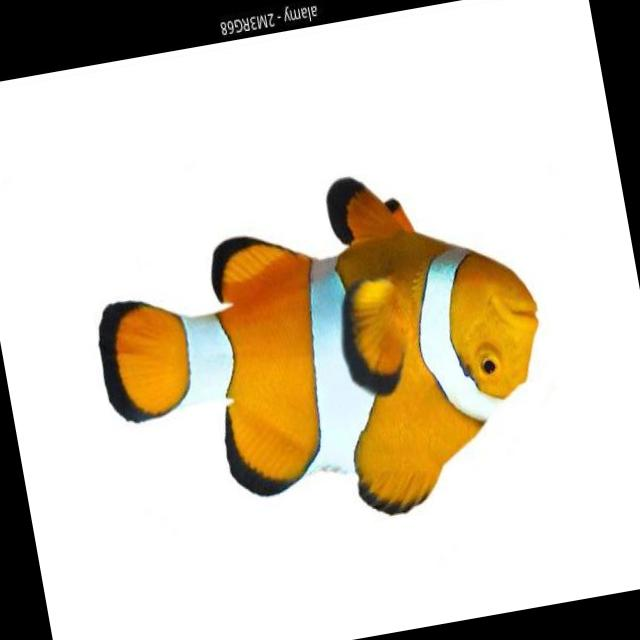ClownFish: (68, 147, 570, 568)
